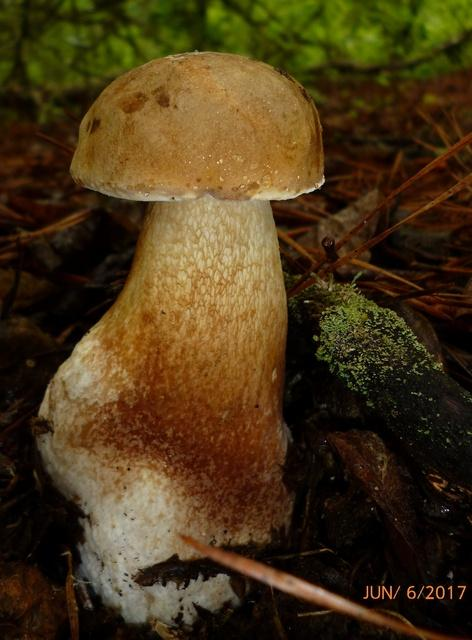Non-edible Mushroom: (31, 49, 326, 630)
